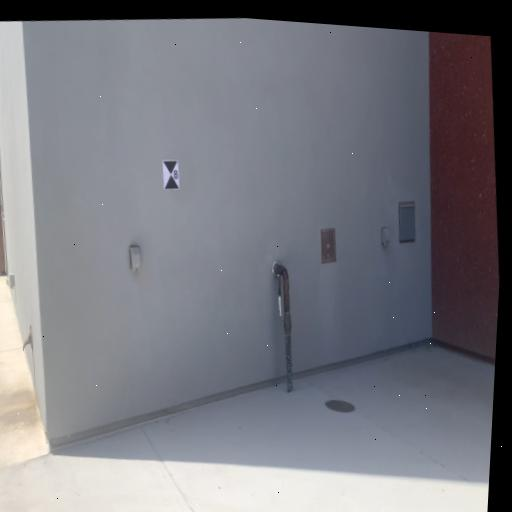target8: (161, 159, 182, 192)
